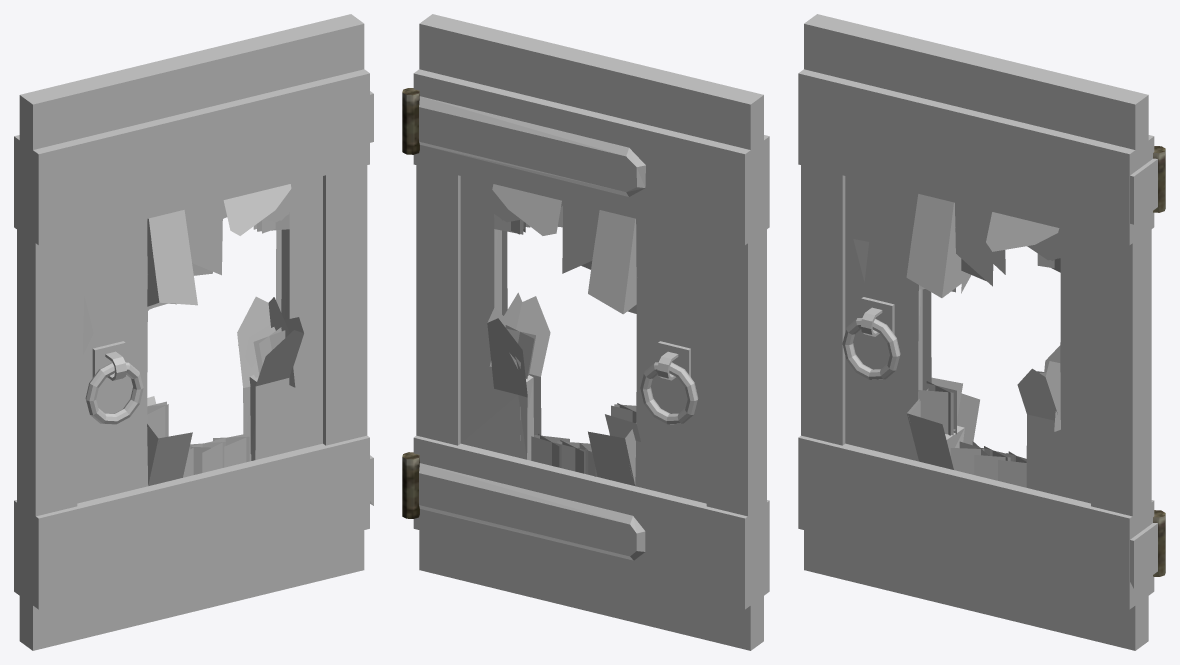
Rendered from cellar_wood01_damage2.dae.
3 renders of one model, left to right at view 1: azimuth 30°, elevation 25°; view 2: azimuth 150°, elevation 25°; view 3: azimuth 330°, elevation 25°, orthographic.
Visible parts, largest first — view 1: Scene_Root (×2); view 2: Scene_Root (×2), Object02; view 3: Scene_Root (×2), polySurface8, Object02.
Part boxes in pixels (box(x1,y1,x2,y2)): Scene_Root (×2): box(14, 14, 369, 650); Scene_Root (×2): box(413, 14, 769, 650); Object02: box(402, 88, 419, 518); Scene_Root (×2): box(798, 14, 1154, 650); polySurface8: box(1130, 158, 1157, 588); Object02: box(1153, 146, 1165, 576).
Size of the model in its own units: 1.79 by 0.397 by 2.75.
